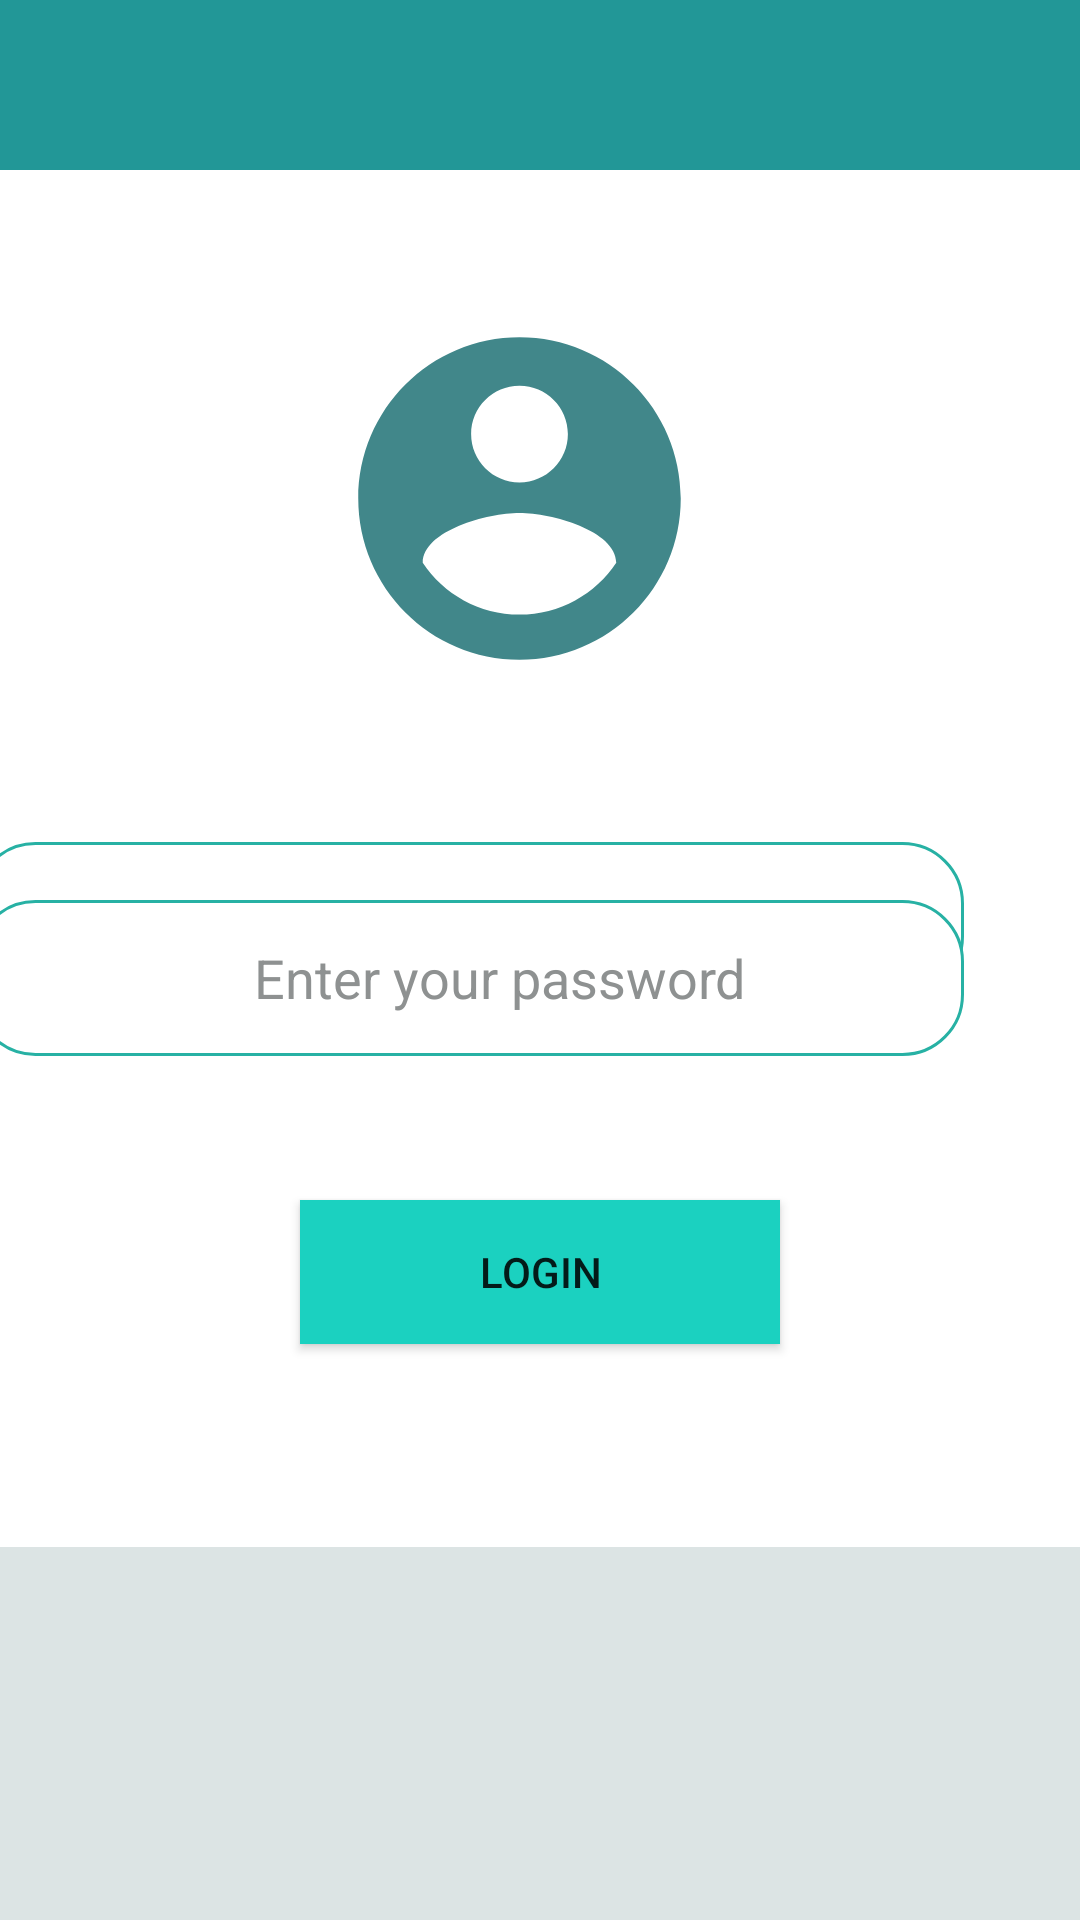

Screen size 1080x1920. Icon name, then its center in pixels as (x,y):
account admin: (519,498)
